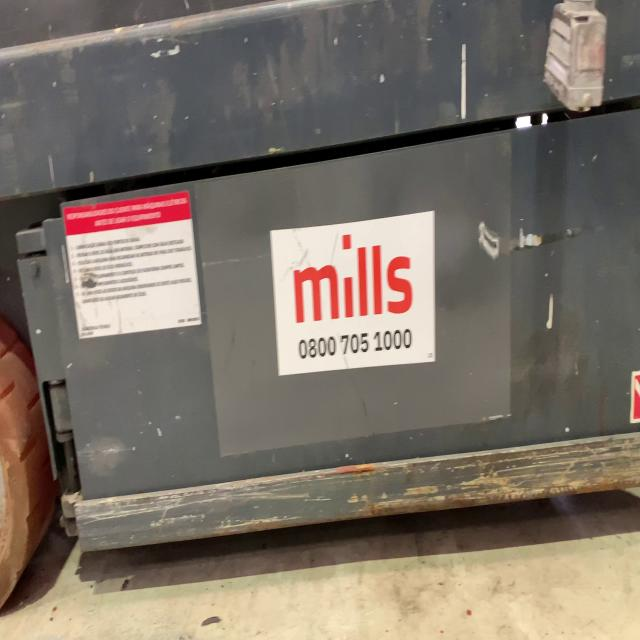Adesivos: (266, 207, 437, 380)
